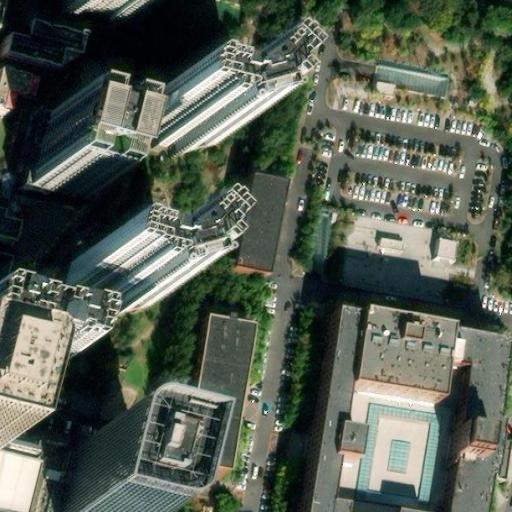building: (289, 300, 492, 512), (174, 318, 249, 473), (52, 230, 168, 308), (121, 67, 237, 142), (14, 119, 96, 214), (227, 195, 287, 291), (3, 32, 92, 84), (54, 473, 140, 512), (56, 0, 132, 31), (376, 62, 449, 90), (0, 260, 16, 303), (0, 221, 17, 252), (439, 237, 460, 259)
